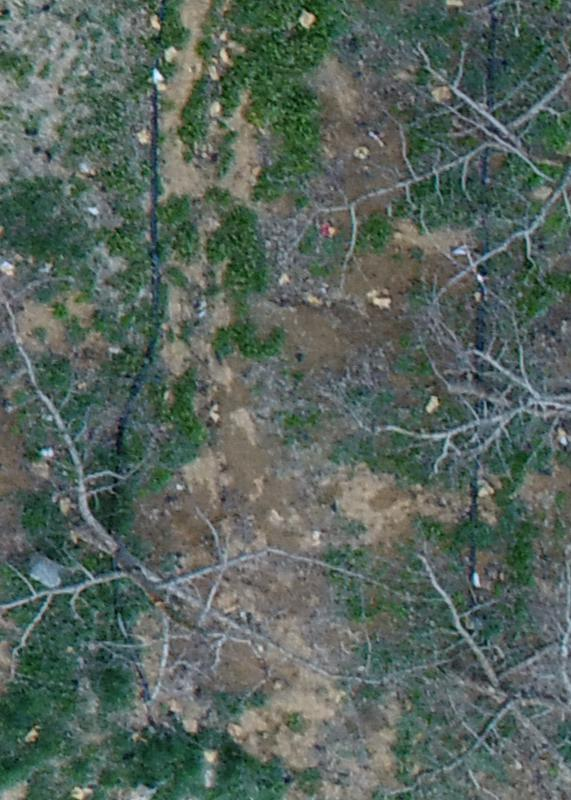apple: (10, 293, 399, 756), (284, 36, 561, 311), (360, 251, 561, 491), (379, 542, 561, 790)
